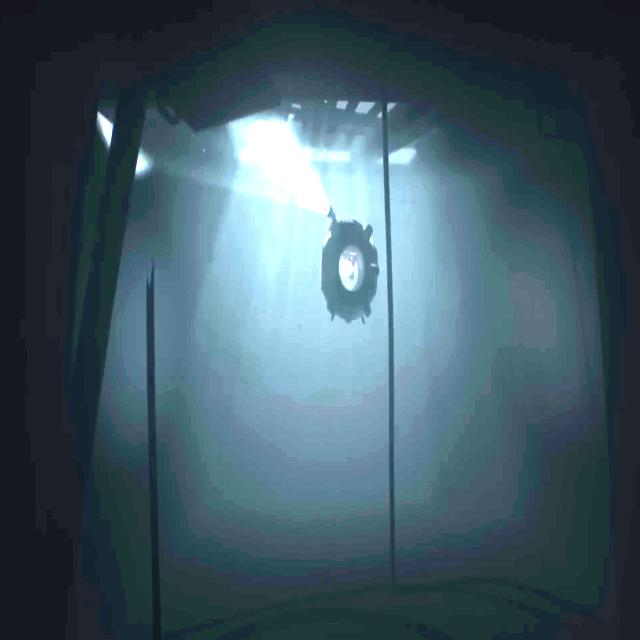boy: (344, 256, 356, 282)
submarine: (321, 204, 380, 326)
